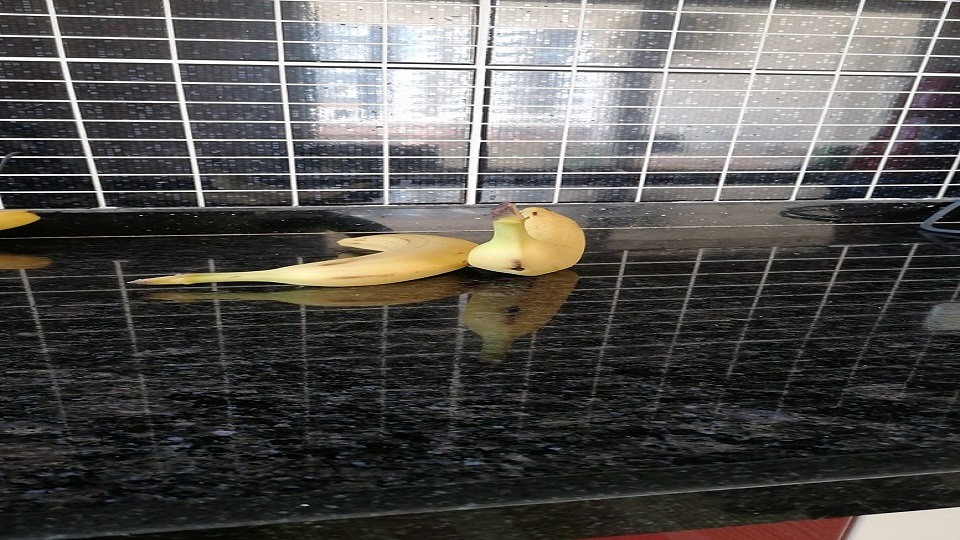muz: (136, 231, 482, 289), (466, 206, 588, 279)
